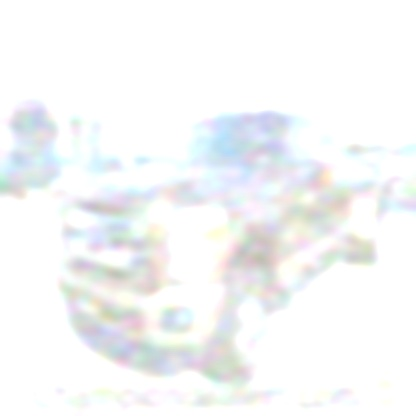Vehicle: (53, 103, 388, 386)
